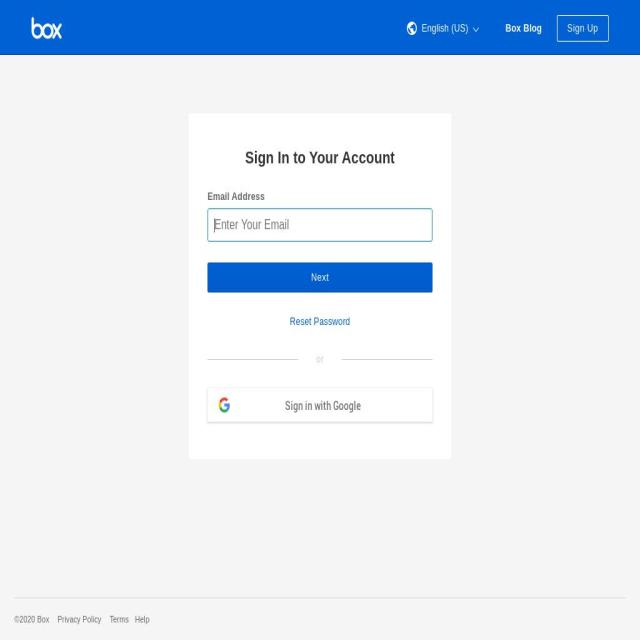button: (208, 388, 432, 422), (208, 262, 432, 292), (505, 0, 542, 56), (31, 0, 62, 55), (556, 14, 609, 42), (290, 313, 350, 330), (406, 21, 482, 33)
field: (208, 208, 432, 242)
heading: (208, 145, 432, 170)
image: (31, 17, 62, 40), (406, 21, 417, 35), (219, 398, 230, 412)
link: (57, 614, 101, 624), (15, 614, 50, 624), (110, 614, 130, 624), (135, 614, 150, 624)
text: (208, 185, 432, 208), (285, 397, 361, 413), (421, 21, 468, 34), (307, 351, 333, 367)
